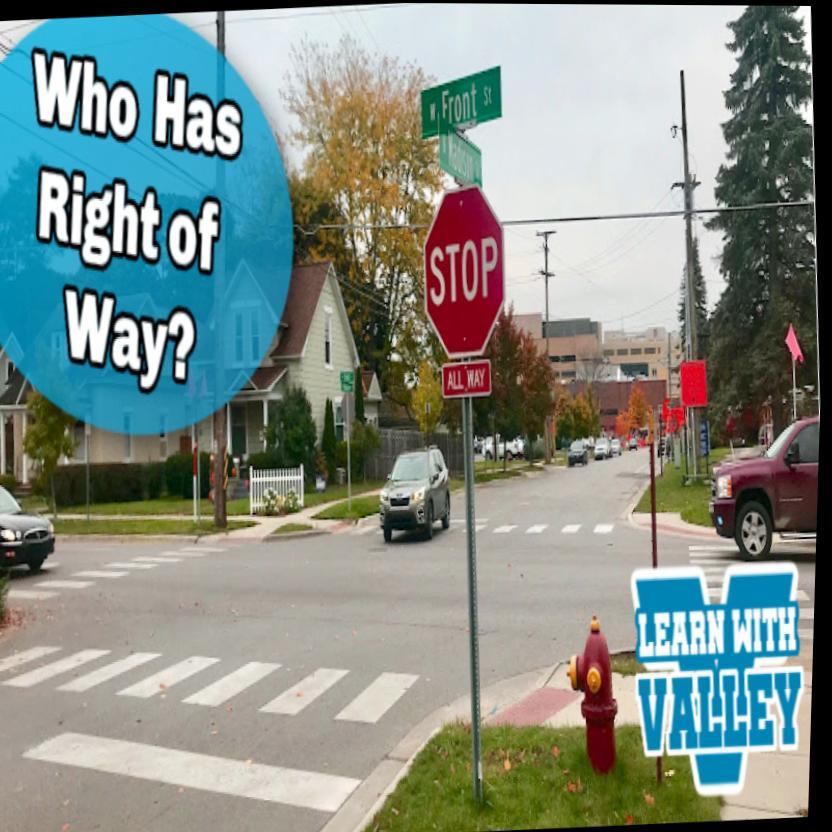Pole: (454, 398, 501, 796)
Sign: (421, 186, 513, 358)
